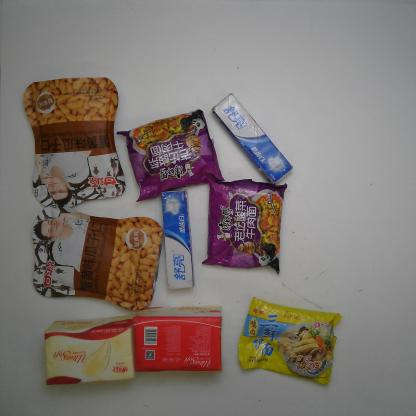Dried Fruit: (23, 75, 132, 213), (30, 210, 164, 310)
Instant Noodles: (115, 108, 229, 203), (237, 298, 341, 384), (203, 178, 290, 276)
Personal Hygiene: (213, 92, 294, 184), (159, 188, 197, 290)
Tissue: (41, 318, 136, 387), (134, 307, 224, 375)
